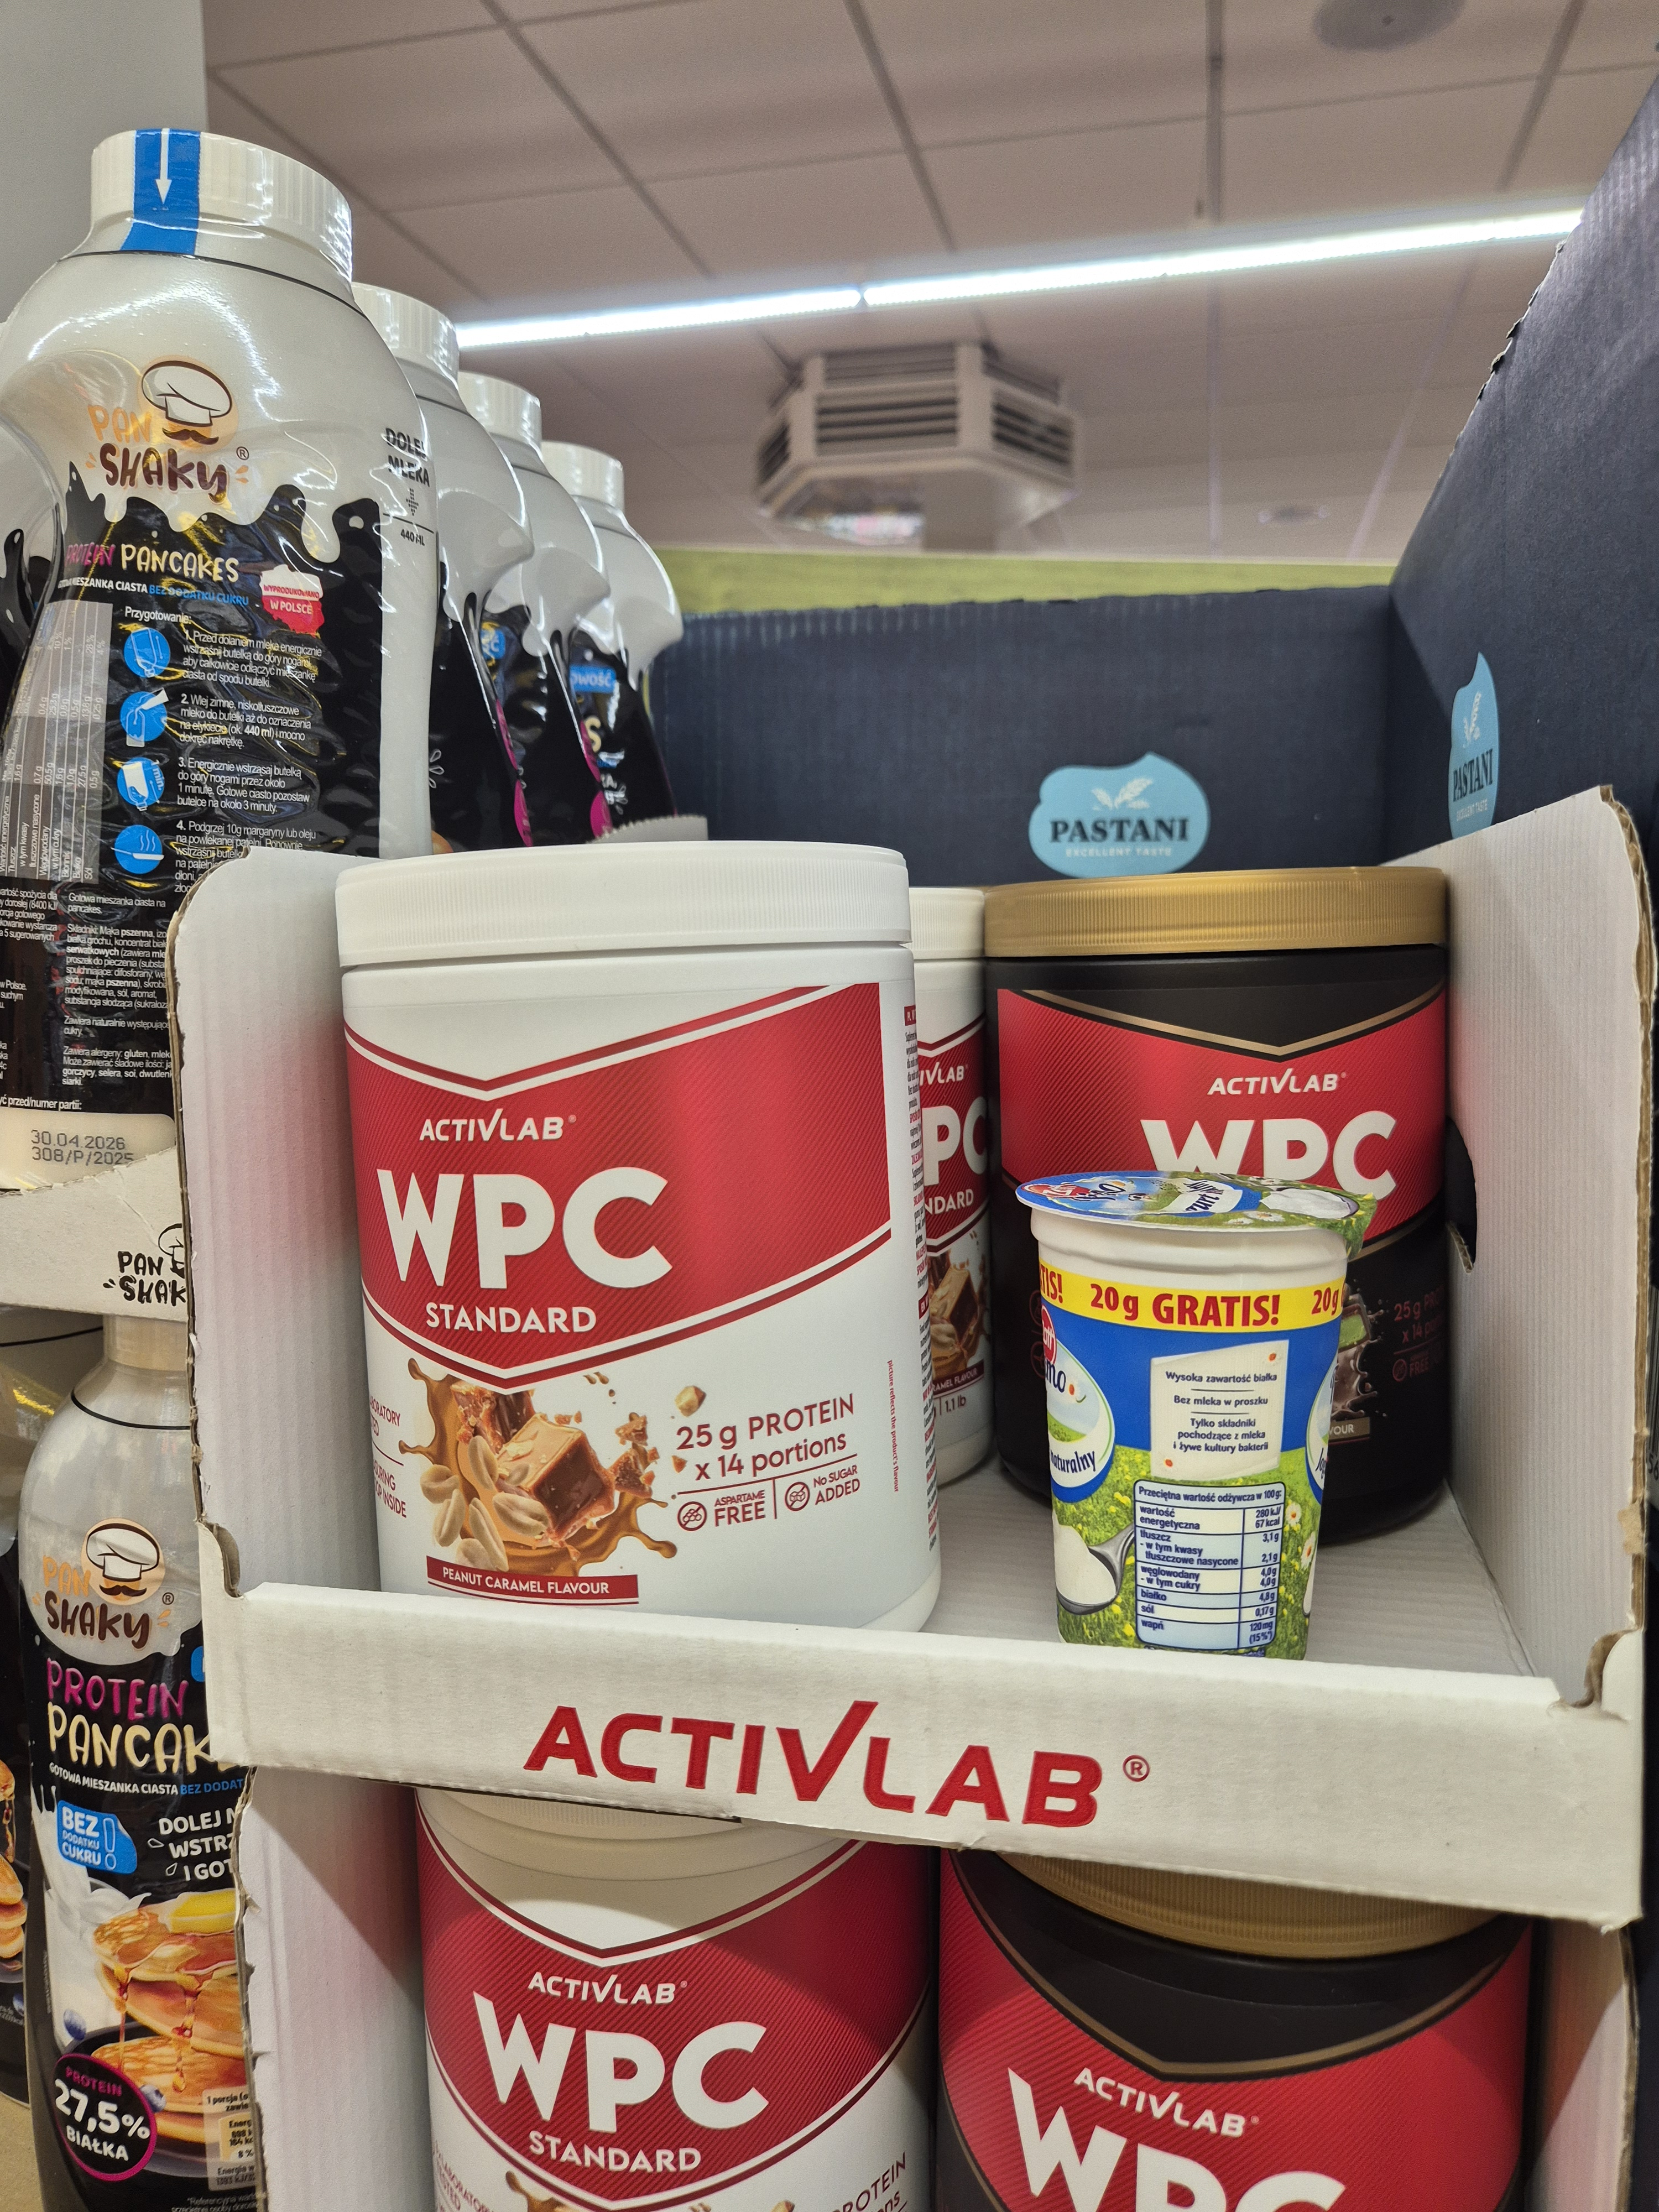Yogurt: (1018, 1144, 1384, 1696)
